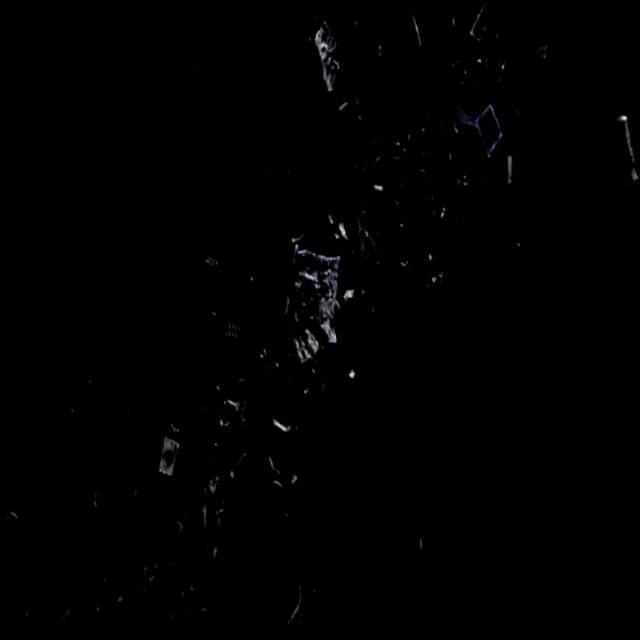large_debris: (287, 231, 339, 360), (300, 12, 344, 91), (448, 103, 506, 149), (611, 109, 638, 188), (467, 0, 512, 47), (350, 200, 379, 260), (282, 575, 310, 633), (54, 590, 93, 630), (215, 394, 249, 438), (157, 437, 183, 483), (401, 11, 427, 52), (200, 245, 221, 285), (421, 261, 444, 296), (265, 413, 295, 438), (325, 210, 347, 244), (335, 366, 357, 399), (497, 152, 517, 187), (529, 39, 550, 71), (266, 455, 282, 493), (221, 317, 242, 345), (61, 392, 76, 423), (365, 180, 389, 199), (340, 282, 357, 308), (204, 465, 220, 492), (335, 95, 353, 116), (195, 500, 205, 535), (213, 501, 226, 526), (172, 519, 184, 539), (254, 340, 264, 363), (374, 37, 383, 60), (366, 128, 380, 142), (235, 452, 249, 465), (289, 466, 298, 486), (169, 417, 178, 436), (139, 563, 149, 577), (207, 544, 217, 557), (199, 598, 209, 611), (227, 470, 237, 477)
